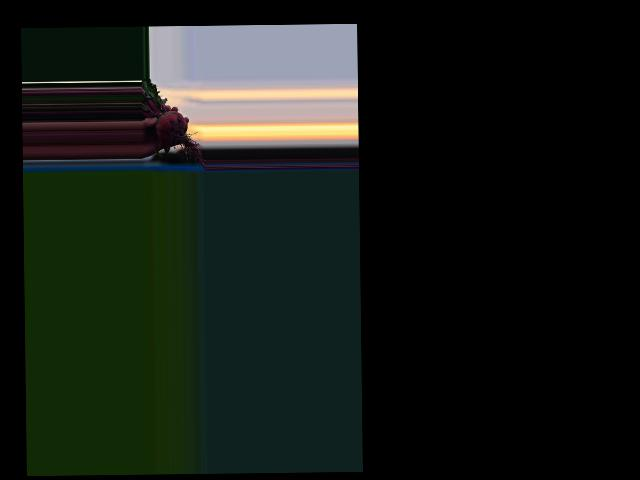beet: (141, 78, 206, 170)
